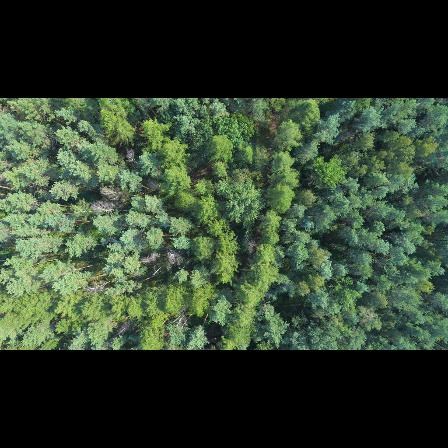Dead: (88, 201, 119, 218), (98, 184, 126, 200), (242, 235, 261, 256), (165, 249, 185, 268), (87, 281, 111, 294), (123, 147, 139, 164), (116, 318, 129, 337)
